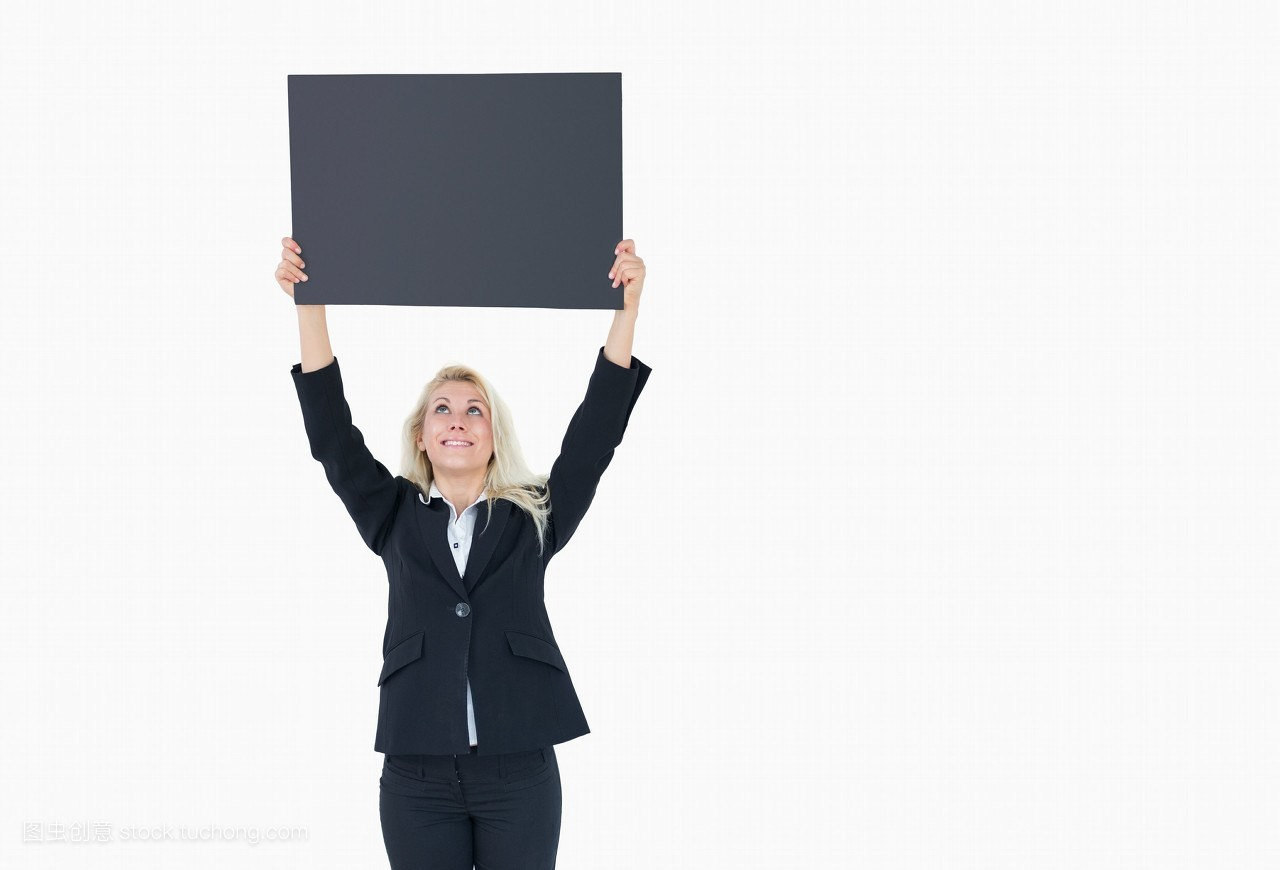handsup: (270, 208, 725, 864)
